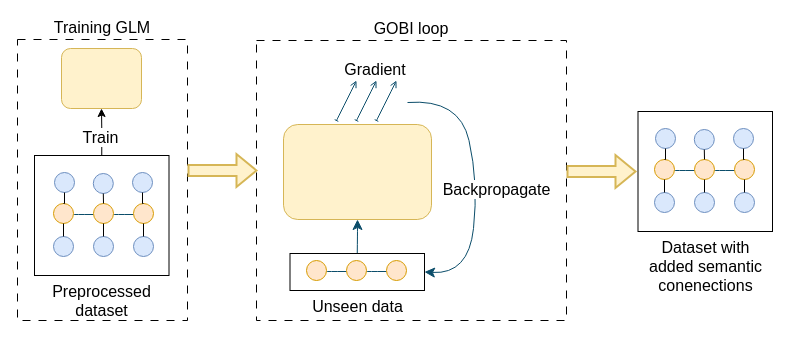
Some shapes in this 790 by 338 pixel diagram are drawn without their labels. Here are the shapes that lost their labels. From the top down, the centre of each, then its label:
At (x=101, y=78): "GLM".
At (x=357, y=172): "Trained GLM".
